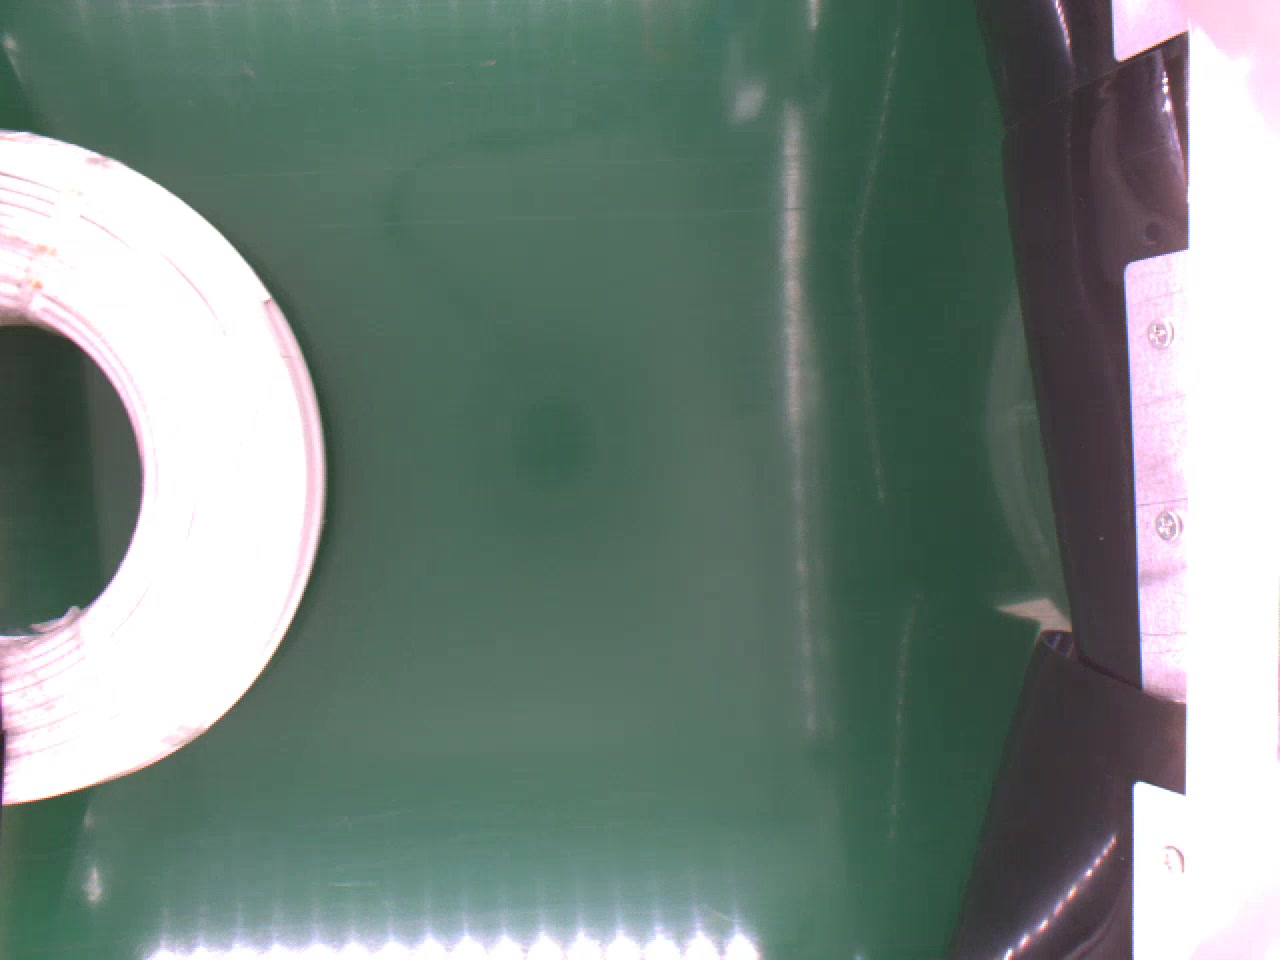white: (0, 127, 331, 812)
